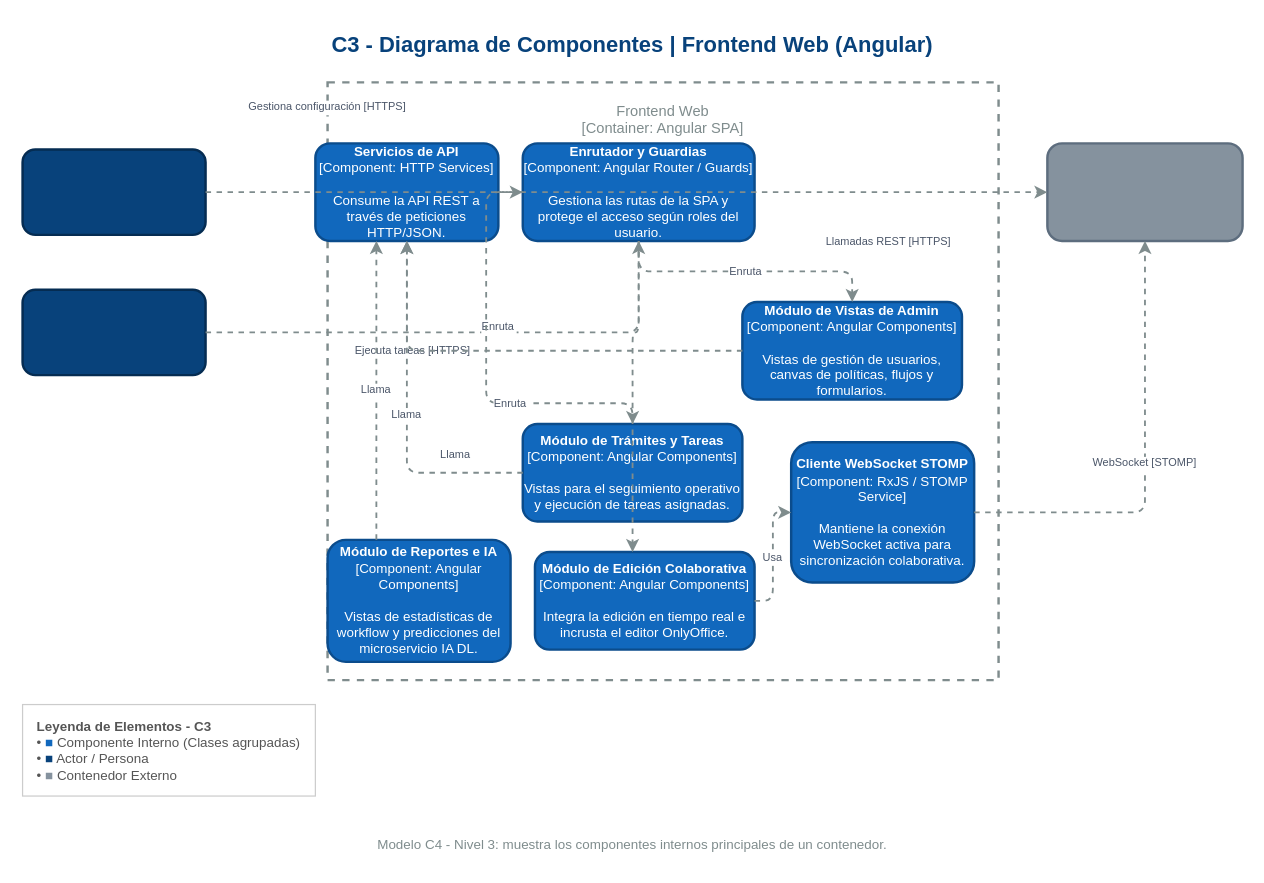
The diagram is 1264 pixels wide and 883 high, and some of its shapes have lost their labels. The shapes that lost their labels are listed below. From the top down, each one's centre as x and y in pixels, then its label:
point (113, 191): Administrador [Person]
point (1144, 192): Nginx [Container]
point (113, 332): Funcionario [Person]
